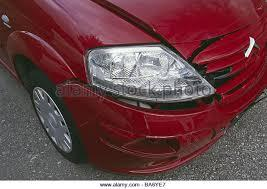Bonnet: (99, 0, 264, 59)
Bumper: (58, 80, 246, 176)
